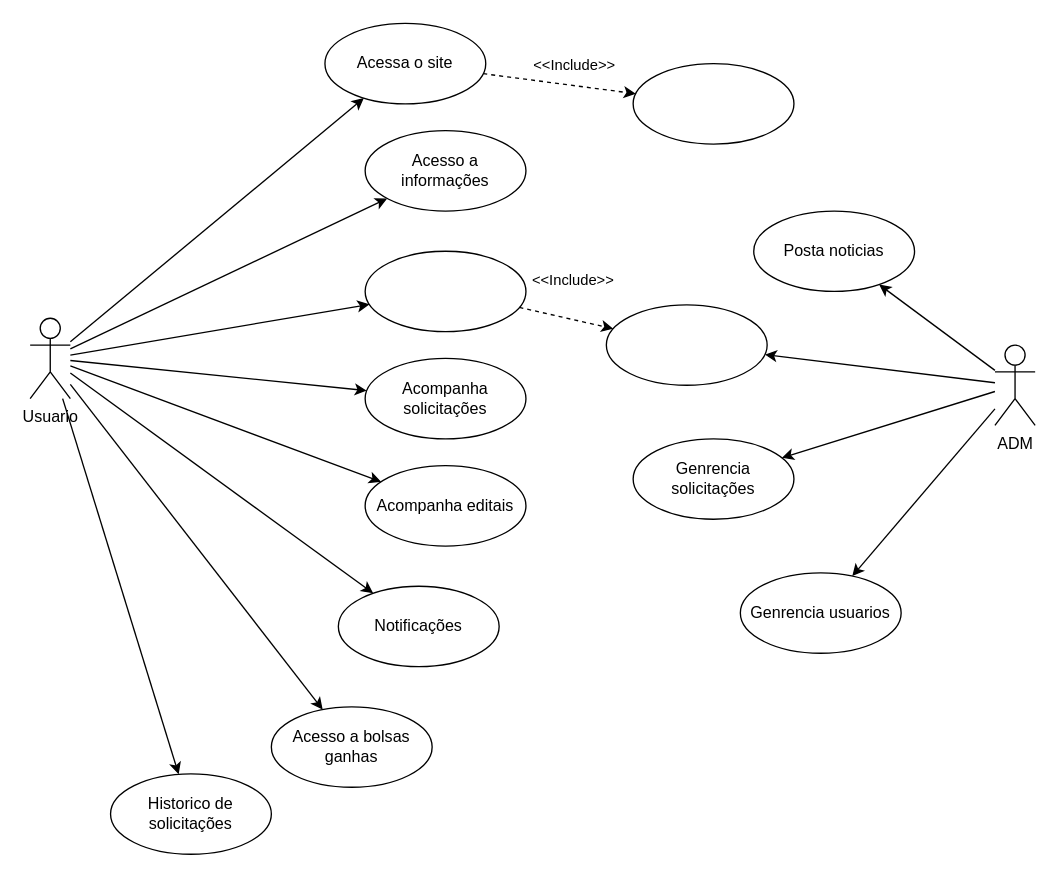
This 1059x878 diagram has some shape labels left out. The centre of each missing label's shape, as x and y in pixels:
Efetua login: the point at 713,103
Solicita bolsa/serviços: the point at 445,291
Validar: the point at 686,344
